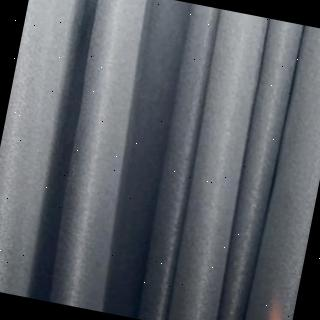fire: (259, 296, 294, 320)
